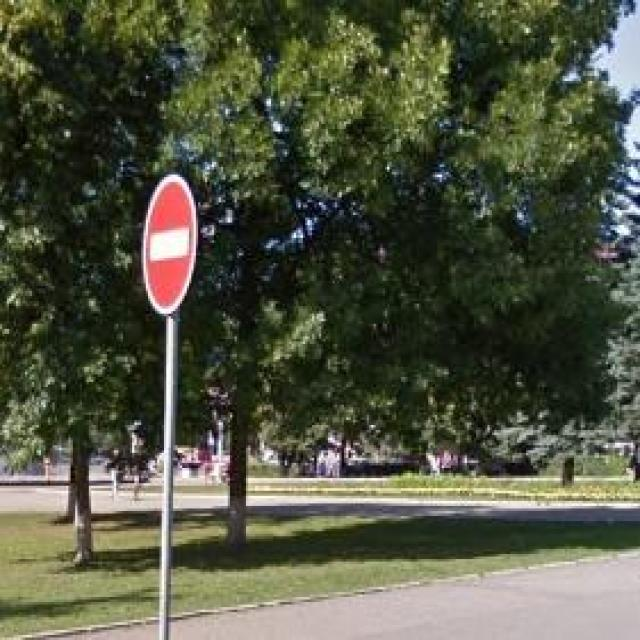Zakaz wjazdu: (136, 170, 202, 318)
